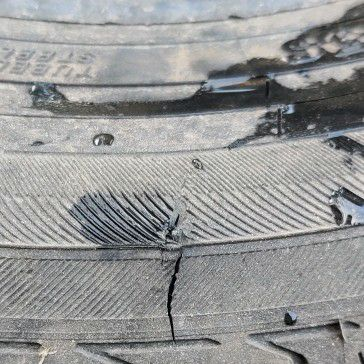cut: (165, 244, 185, 345), (166, 216, 180, 248)
